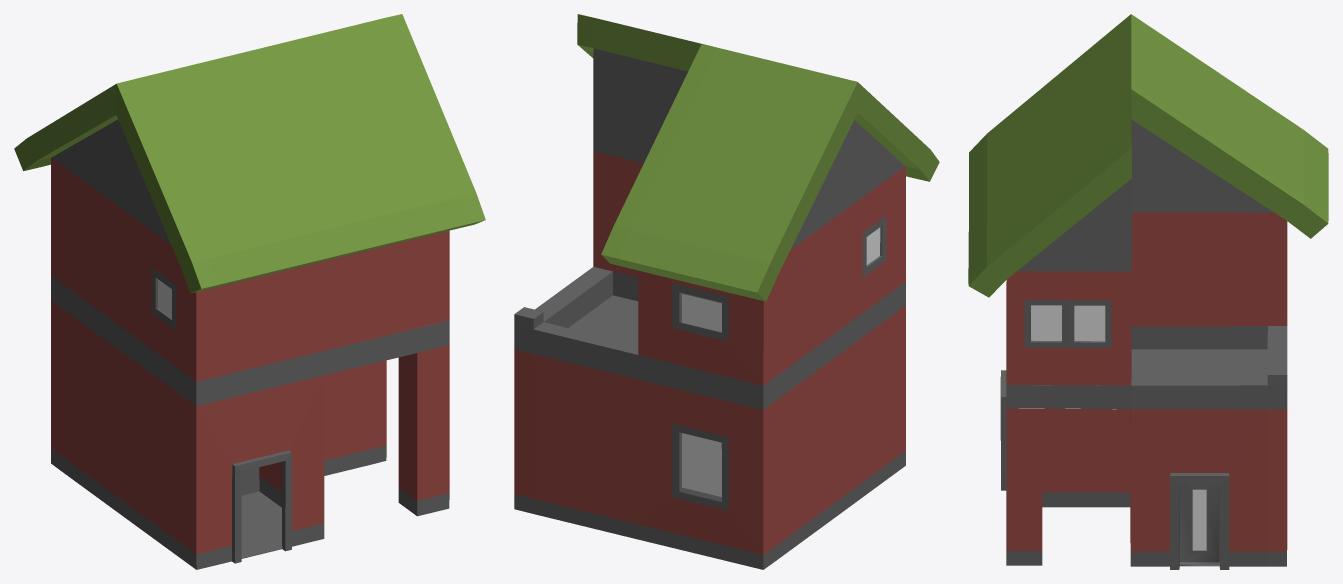
Rendered from newRumah.fbx.
3 views of the same model, side by side, from view 1: azimuth 30°, elevation 25°; view 2: azimuth 150°, elevation 25°; view 3: azimuth 270°, elevation 25° (orthographic). The views are drawn at different scales.
Visible parts, largest first — view 1: Plane; view 2: Plane; view 3: Plane.
Part boxes in pixels (<box>): Plane: <box>14,14,485,569</box>; Plane: <box>514,14,939,569</box>; Plane: <box>968,14,1328,569</box>.
Size of the model in its own units: 410 by 606 by 464.
